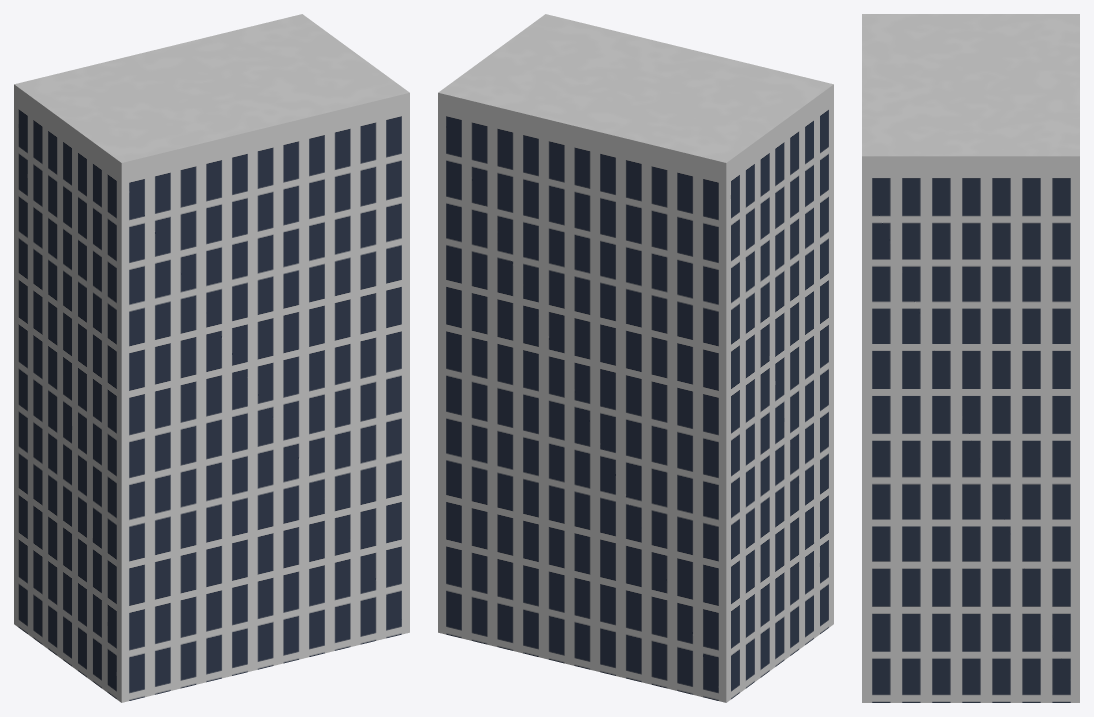
File: Building_S_W3_b_001.fbx
3 views of the same model, side by side, from view 1: azimuth 30°, elevation 25°; view 2: azimuth 150°, elevation 25°; view 3: azimuth 270°, elevation 25° (orthographic).
Visible parts, largest first — view 1: Building_S_W3_002; view 2: Building_S_W3_002; view 3: Building_S_W3_002.
Boxes of the visible parts, x1,y1,x2,y2 form: Building_S_W3_002: (14, 14, 409, 702); Building_S_W3_002: (438, 14, 833, 702); Building_S_W3_002: (862, 14, 1079, 702).
Bounding box in the file's own units: 30.9 × 55.31 × 19.97.
